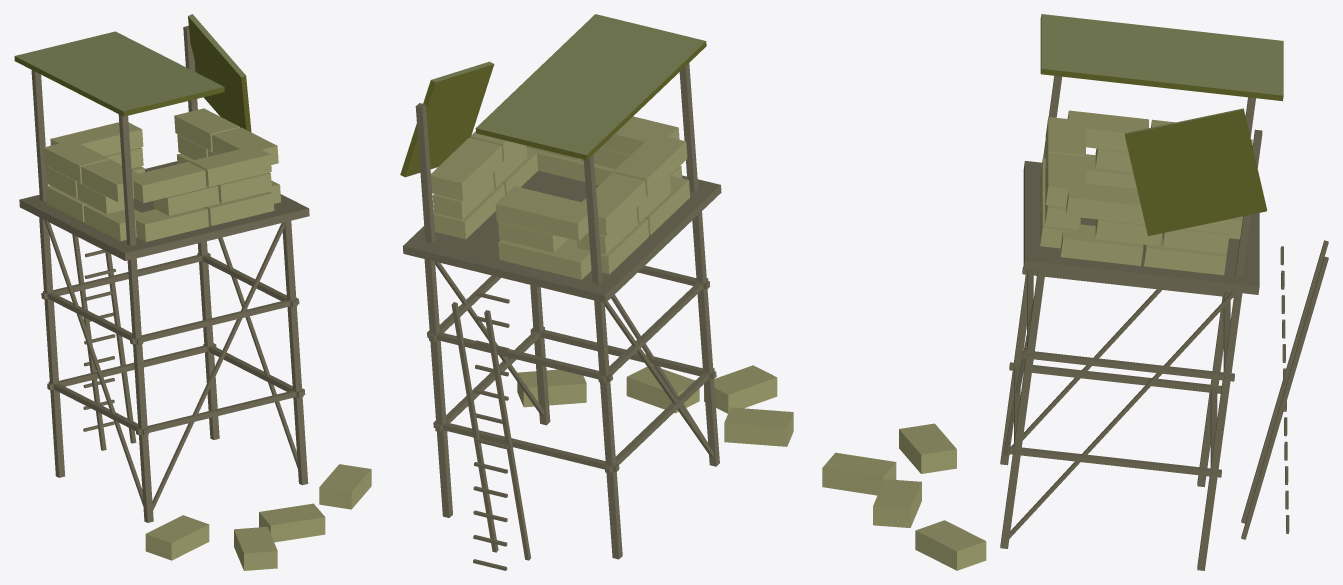
The model's file is SM_Torreta_v4_Caida_LOD0.fbx.
3 renders of one model, left to right at view 1: azimuth 30°, elevation 25°; view 2: azimuth 150°, elevation 25°; view 3: azimuth 270°, elevation 25°, orthographic. The views are drawn at different scales.
Parts seen in each view (by area): view 1: SM_bloques.torreta_v4_LOD0; view 2: SM_bloques.torreta_v4_LOD0; view 3: SM_bloques.torreta_v4_LOD0.
Part boxes in pixels (box(x1,y1,x2,y2)): SM_bloques.torreta_v4_LOD0: box(14, 14, 371, 570); SM_bloques.torreta_v4_LOD0: box(400, 14, 793, 570); SM_bloques.torreta_v4_LOD0: box(822, 14, 1328, 570).
Bounding box in the file's own units: 3.97 × 6.8 × 6.64.
